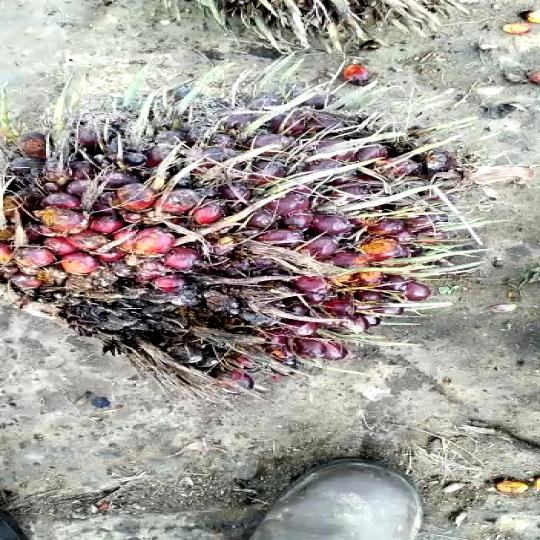masak: (0, 93, 468, 368)
